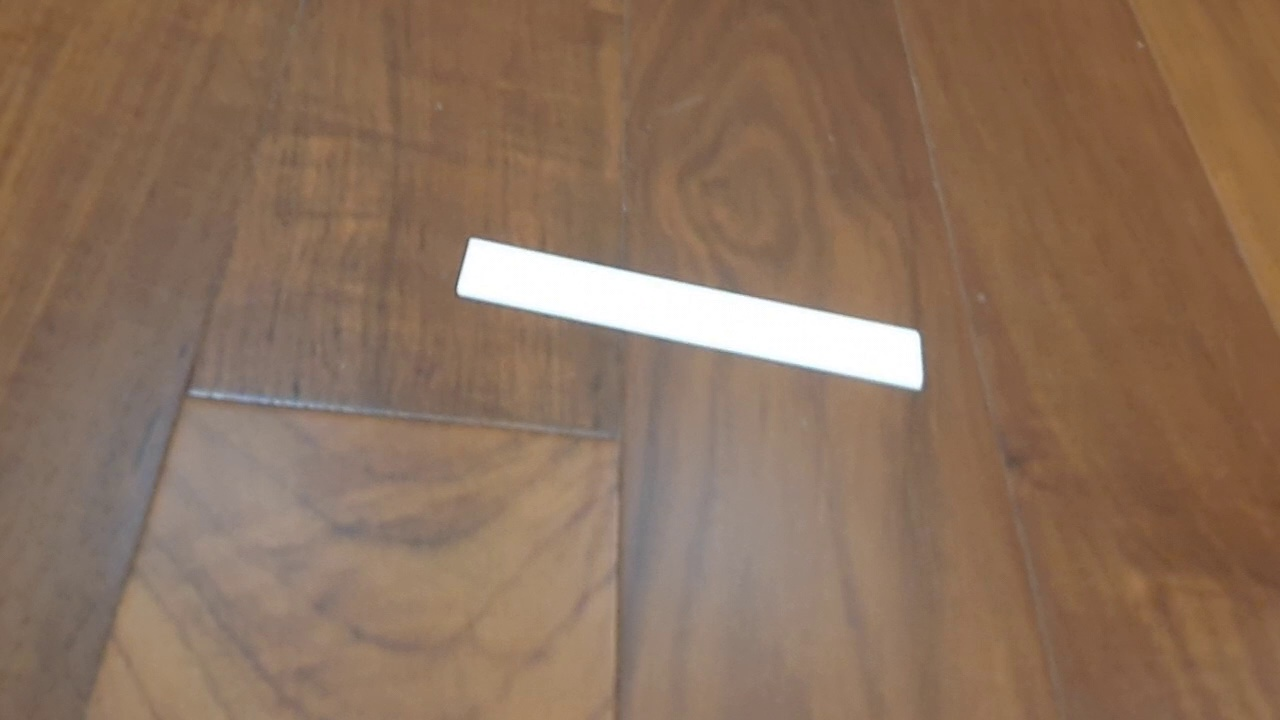ruler: (454, 235, 925, 394)
